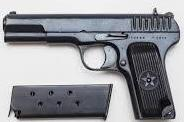gun: (1, 1, 184, 122)
